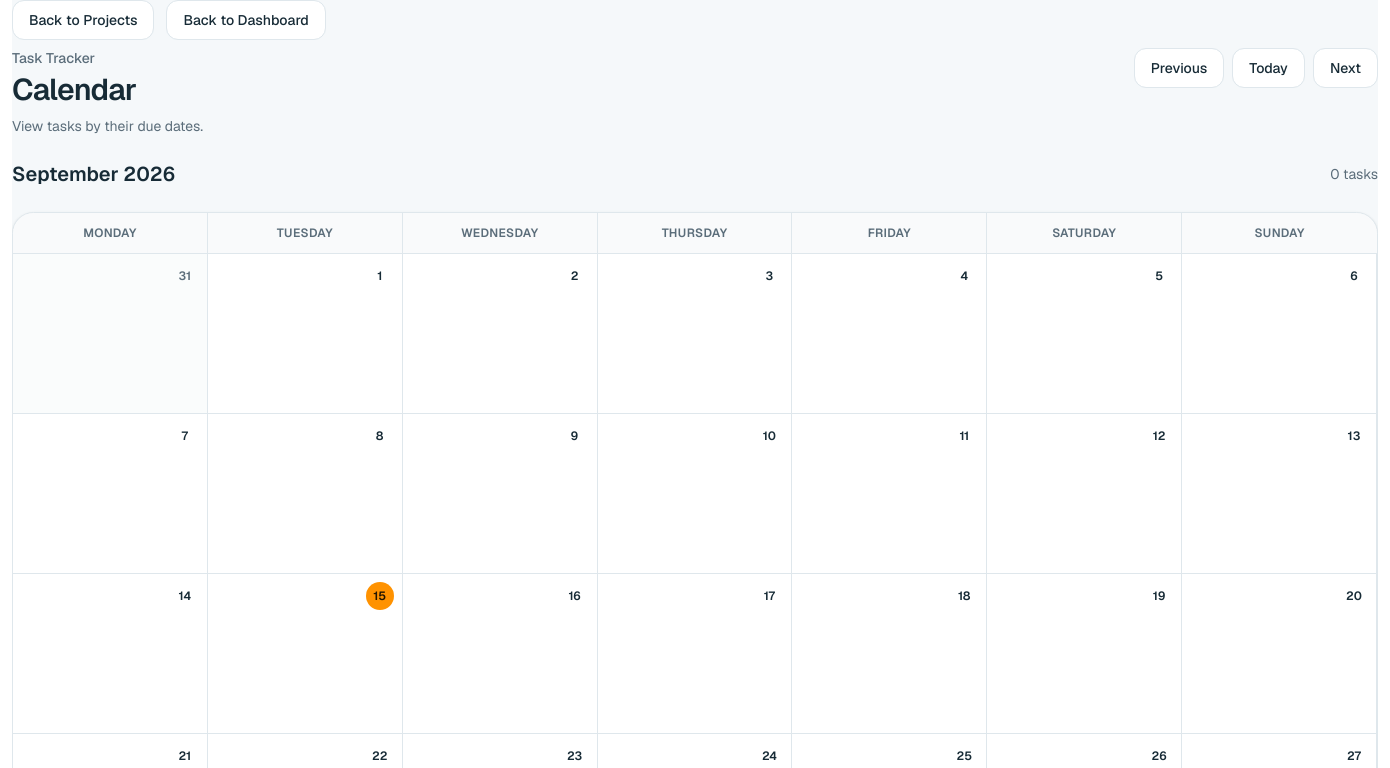
CalendarView › navigates to the next month
Click the button "Next" at (1345, 68), box [1313, 48, 1378, 88]
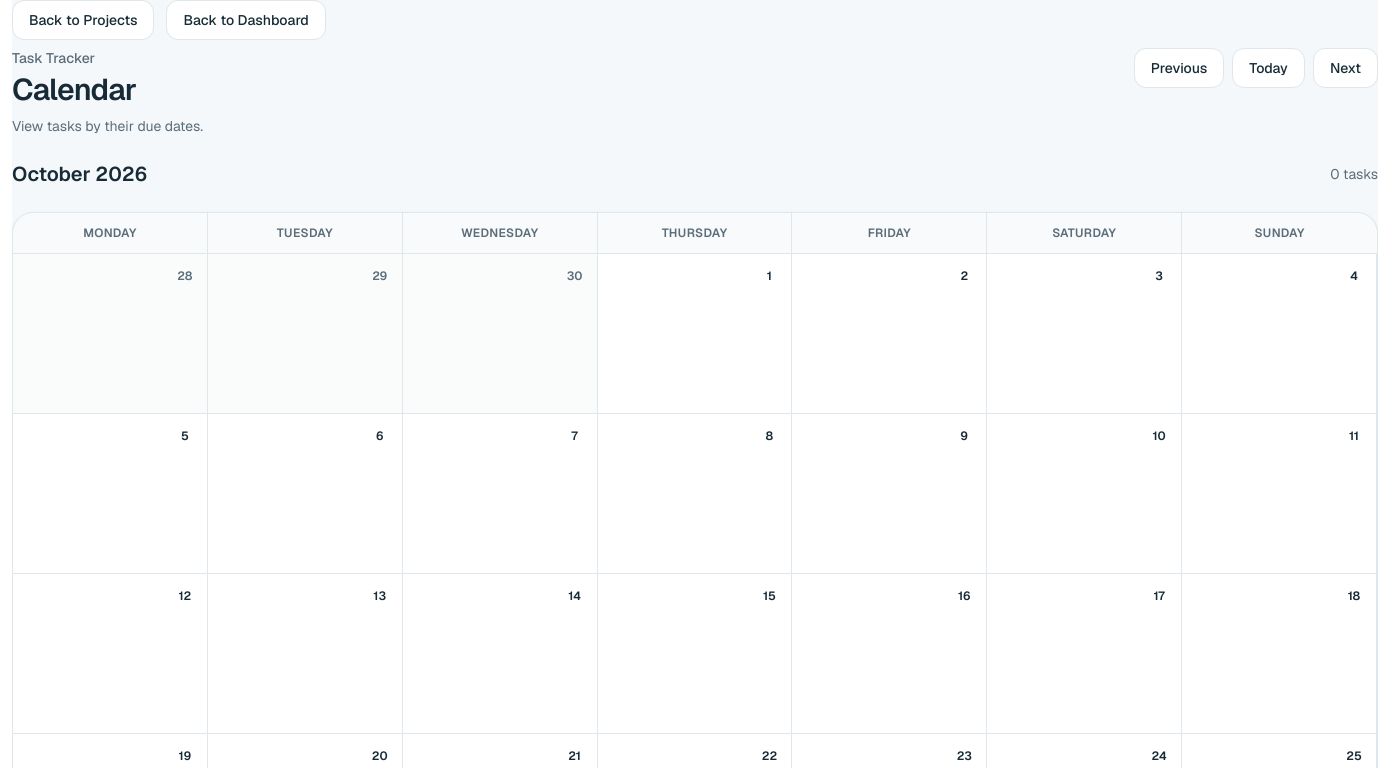
Check: the heading "October 2026" is shown, box [12, 160, 147, 188]
